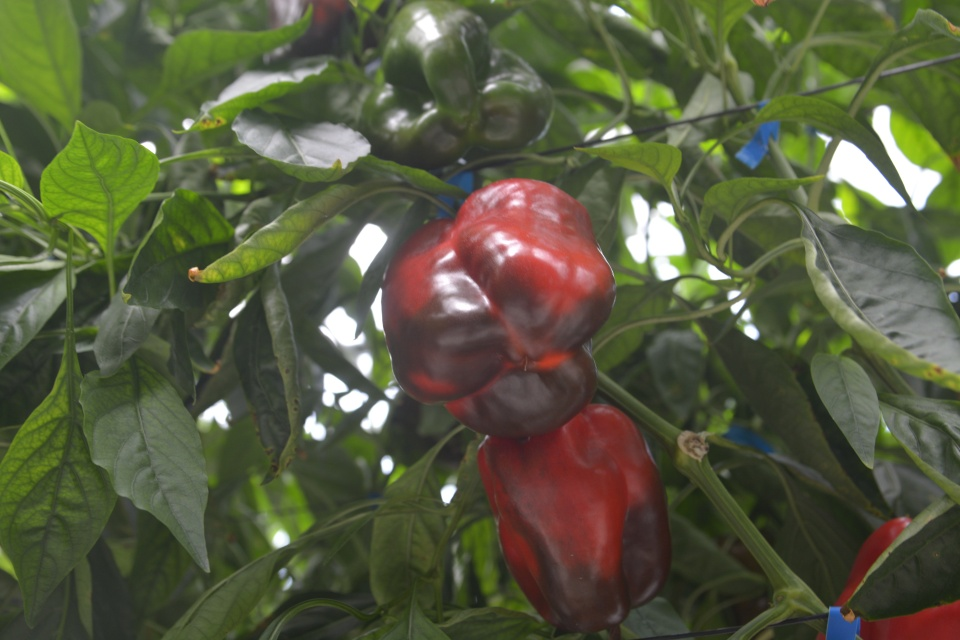fruit: (380, 174, 618, 440), (474, 400, 675, 638), (356, 0, 555, 171), (815, 515, 960, 640), (264, 0, 360, 67)
